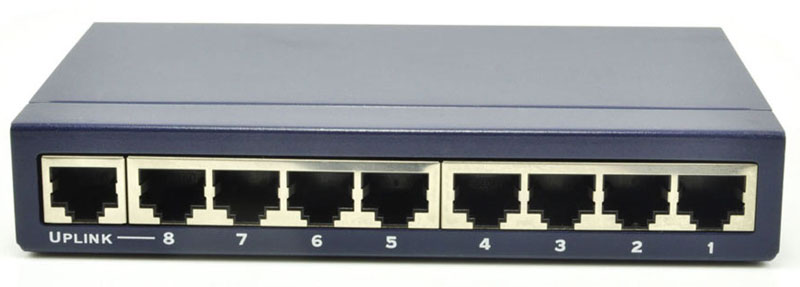lan: (41, 151, 122, 227), (132, 157, 208, 229), (211, 156, 284, 230), (601, 165, 672, 241), (671, 168, 753, 233), (358, 159, 433, 230), (525, 164, 599, 235), (449, 164, 522, 232), (285, 158, 356, 227)
